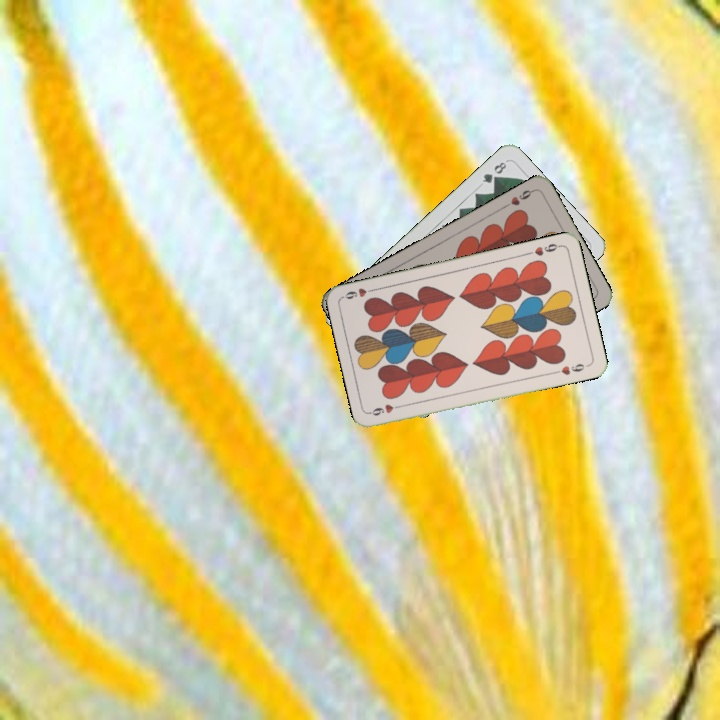G8: (478, 158, 509, 186)
H9: (500, 185, 537, 210), (523, 239, 564, 259), (367, 400, 407, 418)
